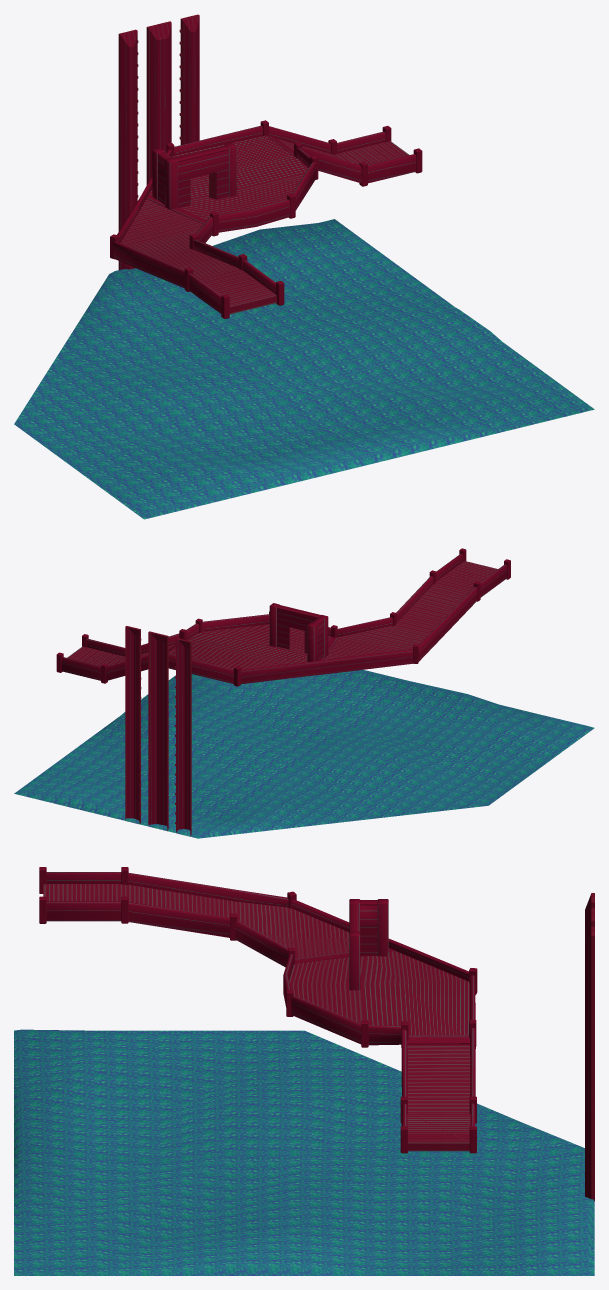
File: Forest_updates.fbx
The picture shows the model from 3 angles, top to bottom: view 1: azimuth 30°, elevation 25°; view 2: azimuth 150°, elevation 25°; view 3: azimuth 270°, elevation 25°; orthographic projection. The views are drawn at different scales.
Visible parts, largest first — view 1: Forest_floor_moss, Forest_floor, Forest_moving_platform, Forest_hiding; view 2: Forest_floor_moss, Forest_floor, Forest_moving_platform, Forest_hiding; view 3: Forest_floor_moss, Forest_floor, Forest_moving_platform, Forest_hiding.
Boxes of the visible parts, x1,y1,x2,y2 form: Forest_floor_moss: (14, 219, 594, 519); Forest_floor: (110, 120, 422, 318); Forest_moving_platform: (118, 14, 199, 269); Forest_hiding: (152, 143, 236, 209); Forest_floor_moss: (14, 670, 594, 838); Forest_floor: (56, 548, 510, 686); Forest_moving_platform: (125, 626, 191, 836); Forest_hiding: (269, 603, 328, 661); Forest_floor_moss: (14, 1029, 594, 1275); Forest_floor: (39, 867, 477, 1153); Forest_moving_platform: (585, 893, 594, 1201); Forest_hiding: (349, 899, 388, 990).
Bounding box in the file's own units: 1565 × 812 × 1563.
Materials: 1 (1 with a texture image).
